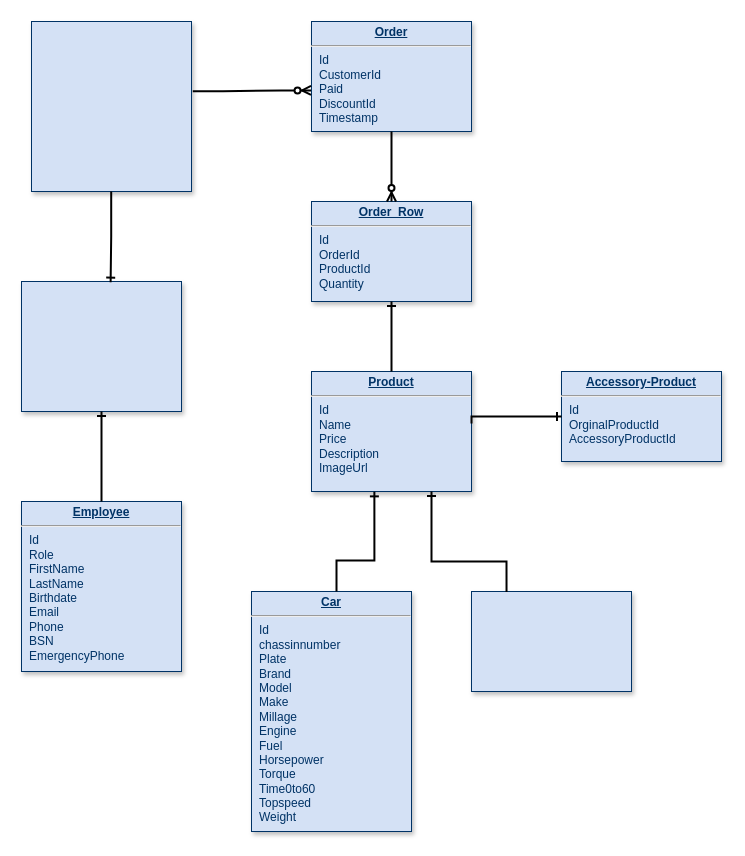
Image size: 745x856. Some labels were removed from this diagram. Each missing label, with the centre of its shape:
"Accessory Id Type" belongs at point 552,642.
"Auth credential id customer_id employee_id username password_hash salt" belongs at point 102,347.
"Customer Id Role FirstName LastName Email Birthdate Adress ZipCode City" belongs at point 112,107.
